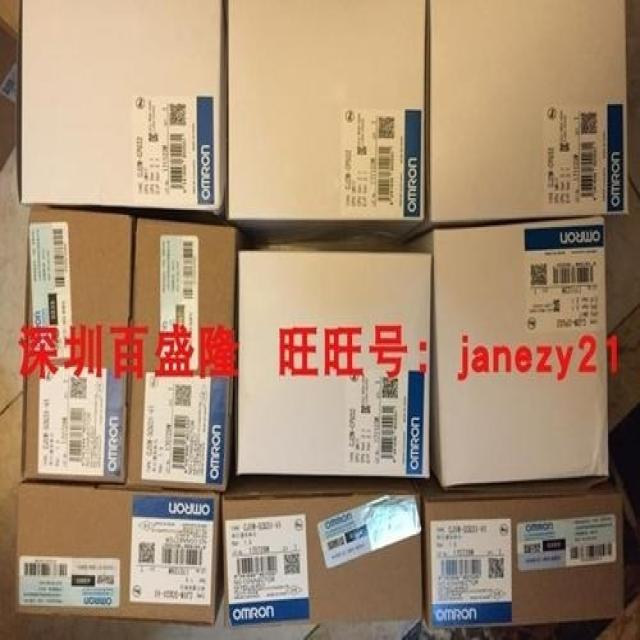box: (402, 219, 609, 488), (224, 1, 428, 249), (420, 1, 626, 236), (18, 0, 226, 218), (238, 251, 431, 476), (124, 219, 237, 492), (21, 210, 132, 485), (221, 490, 423, 638), (14, 482, 226, 623), (423, 490, 622, 632)
